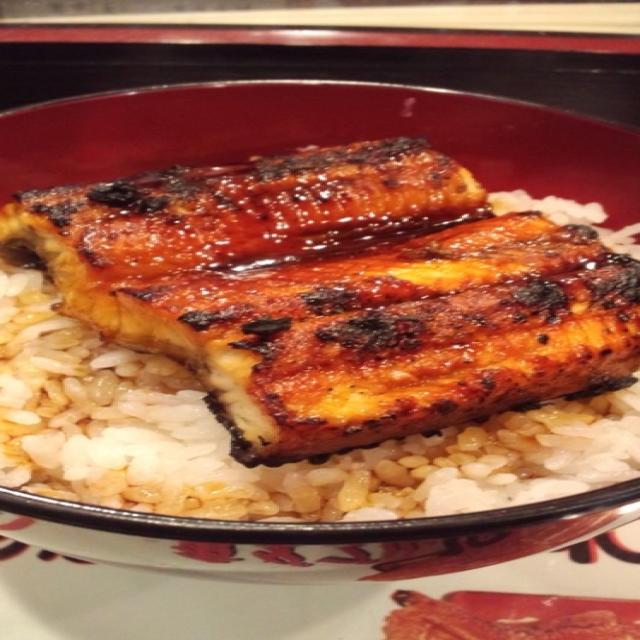熟制海鲜: (20, 74, 623, 559)
